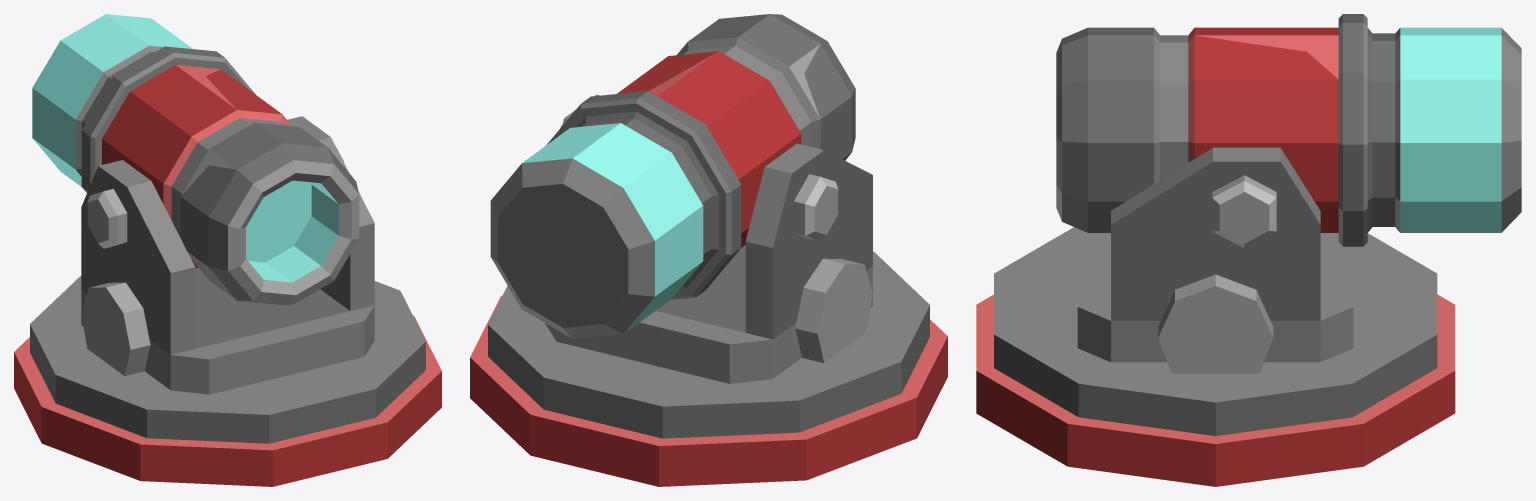
The model's file is tower_plasma_red_1.fbx.
3 renders of one model, left to right at view 1: azimuth 30°, elevation 25°; view 2: azimuth 150°, elevation 25°; view 3: azimuth 270°, elevation 25°, orthographic. The views are drawn at different scales.
Parts seen in each view (by area): view 1: top_plasma_red_1, tower_plasma_red_1; view 2: top_plasma_red_1, tower_plasma_red_1; view 3: top_plasma_red_1, tower_plasma_red_1.
Boxes of the visible parts, x1,y1,x2,y2 form: top_plasma_red_1: [32, 14, 374, 394]; tower_plasma_red_1: [14, 276, 441, 486]; top_plasma_red_1: [490, 14, 872, 383]; tower_plasma_red_1: [470, 251, 947, 486]; top_plasma_red_1: [1056, 14, 1521, 373]; tower_plasma_red_1: [976, 227, 1455, 486].
Bounding box in the file's own units: 142 × 111 × 154.
